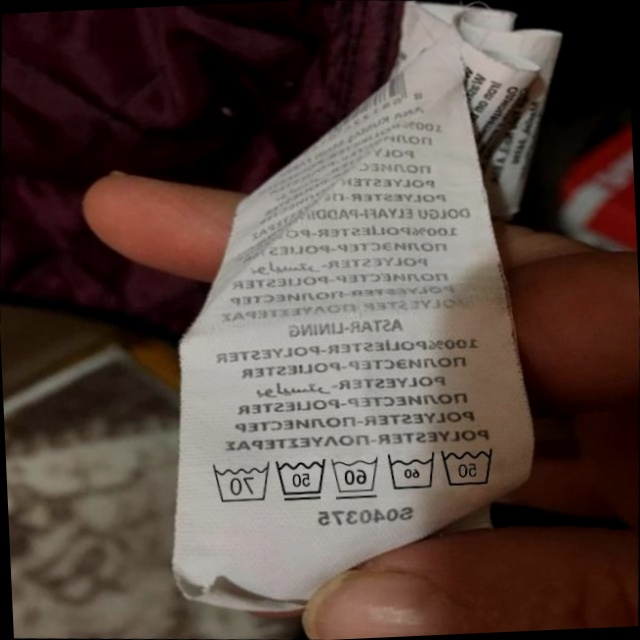50C: (435, 438, 502, 494), (270, 452, 330, 507)
60C: (325, 450, 382, 503), (381, 446, 439, 497)
70C: (204, 457, 272, 508)
